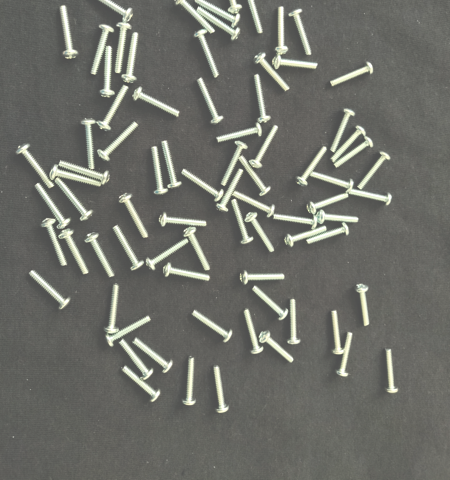longscrew: (25, 267, 73, 313), (15, 142, 55, 190), (32, 182, 72, 229), (97, 120, 140, 163), (54, 177, 95, 222), (117, 364, 162, 404), (83, 231, 118, 280), (110, 223, 144, 273), (56, 226, 90, 276), (104, 313, 152, 348), (38, 217, 70, 269), (179, 167, 225, 203), (252, 52, 292, 93), (131, 337, 174, 375), (117, 338, 155, 381), (195, 6, 243, 40), (131, 86, 182, 118), (189, 307, 234, 343), (96, 83, 129, 132), (294, 143, 329, 189), (116, 193, 150, 240), (145, 236, 191, 270), (173, 0, 216, 36), (237, 153, 273, 196), (218, 139, 250, 187), (181, 225, 213, 273), (357, 148, 392, 191), (244, 211, 277, 256), (87, 23, 115, 76), (330, 124, 367, 164), (250, 285, 290, 322), (191, 29, 220, 80), (249, 123, 281, 169), (57, 158, 111, 185), (195, 76, 224, 126), (333, 135, 375, 169), (193, 0, 242, 29), (216, 167, 246, 213), (327, 107, 357, 153), (329, 60, 376, 89), (229, 190, 276, 219), (57, 3, 80, 61), (306, 188, 352, 217), (257, 329, 295, 364), (288, 7, 314, 57), (230, 196, 256, 246), (159, 139, 183, 189), (82, 0, 134, 23), (48, 165, 101, 187), (284, 223, 330, 248), (79, 115, 99, 172), (242, 307, 265, 356), (306, 222, 351, 247), (162, 261, 213, 283), (121, 31, 142, 84), (113, 20, 133, 75), (149, 143, 169, 198), (102, 282, 122, 337), (216, 121, 265, 143), (309, 169, 355, 192), (333, 331, 355, 379), (97, 44, 116, 99), (252, 73, 272, 125), (381, 345, 401, 396), (211, 364, 231, 414), (273, 3, 291, 58), (156, 212, 210, 230), (354, 282, 374, 330), (239, 0, 265, 36), (181, 355, 198, 408), (347, 187, 394, 206), (272, 211, 321, 229), (271, 53, 319, 71), (237, 269, 286, 286), (329, 307, 346, 355), (315, 209, 360, 227), (287, 297, 303, 347), (218, 0, 244, 13)
